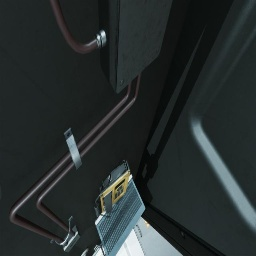EmergencyPhone ,: (94, 160, 130, 218)
